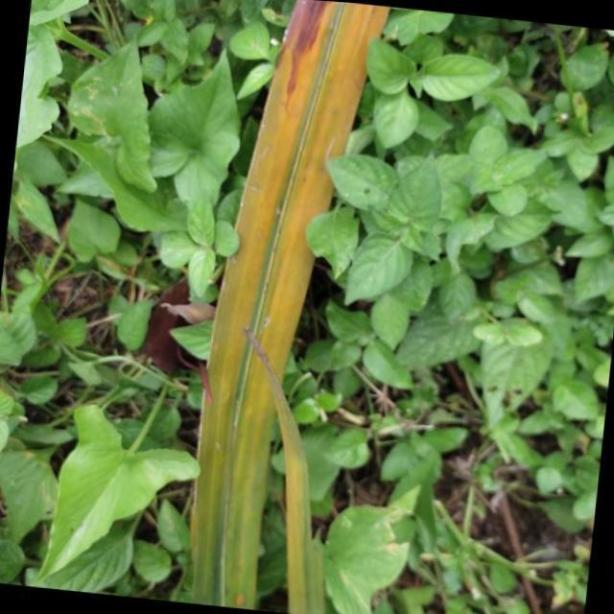Megnesium: (193, 0, 395, 614)
